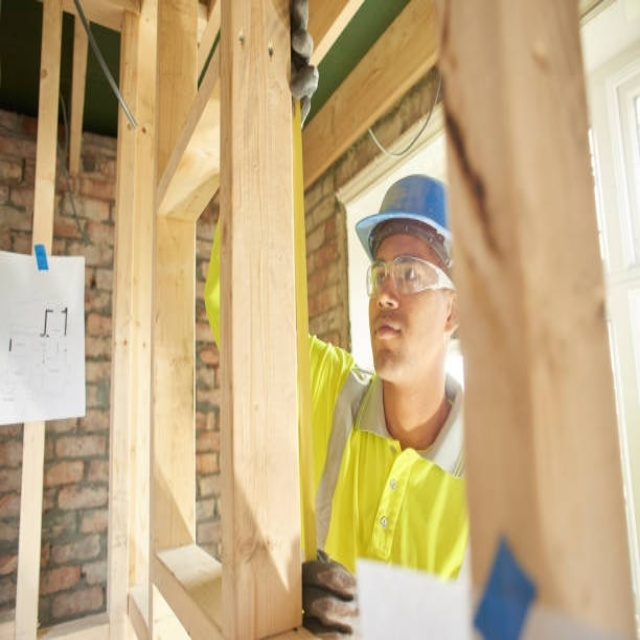Gafas: (366, 255, 455, 298)
Sin_mascara: (370, 314, 409, 364)
